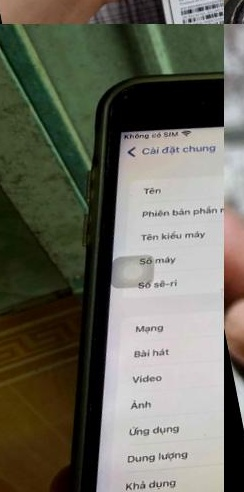scratch: (96, 77, 147, 117), (189, 70, 224, 123), (224, 0, 244, 24)
